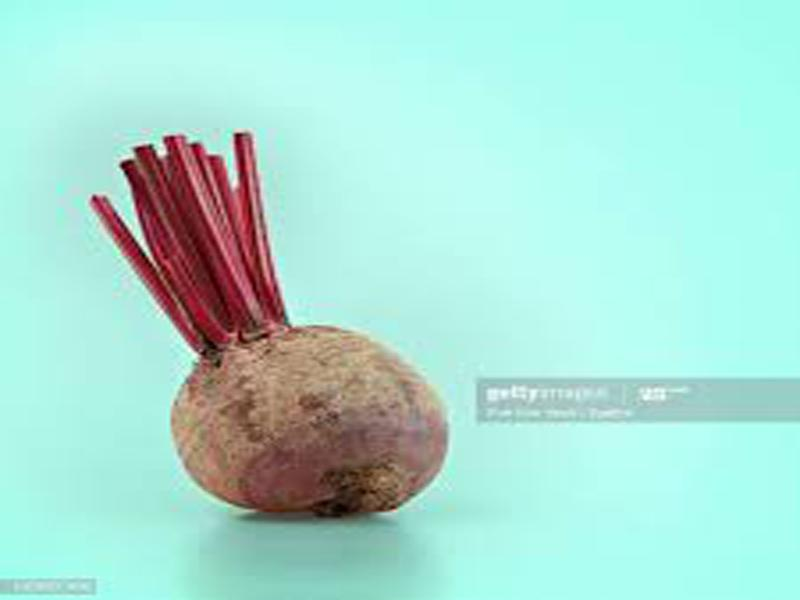Beet: (92, 136, 448, 517)
